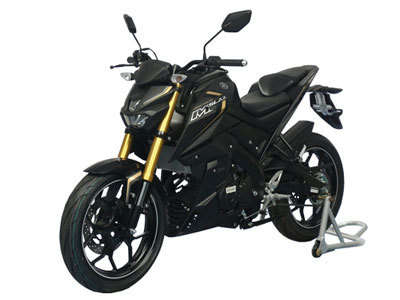motorcycle: (58, 52, 343, 291)
